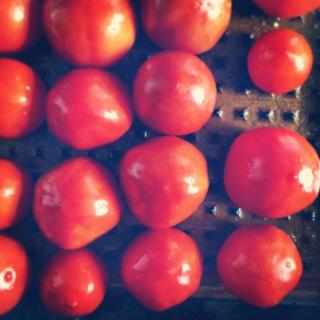tomato: (117, 135, 211, 230), (222, 128, 320, 219), (132, 47, 224, 138), (33, 157, 122, 247), (44, 66, 138, 149), (216, 222, 302, 306), (120, 227, 200, 309), (42, 0, 136, 69), (142, 0, 231, 52), (40, 248, 109, 314), (248, 27, 312, 95), (0, 58, 46, 137), (0, 236, 30, 314), (0, 157, 32, 230), (0, 0, 37, 49), (256, 0, 320, 19)
